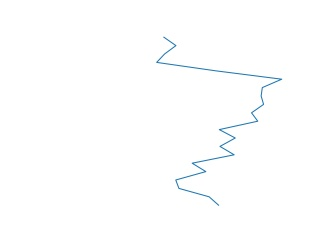floodPlain: (155, 35, 284, 210)
